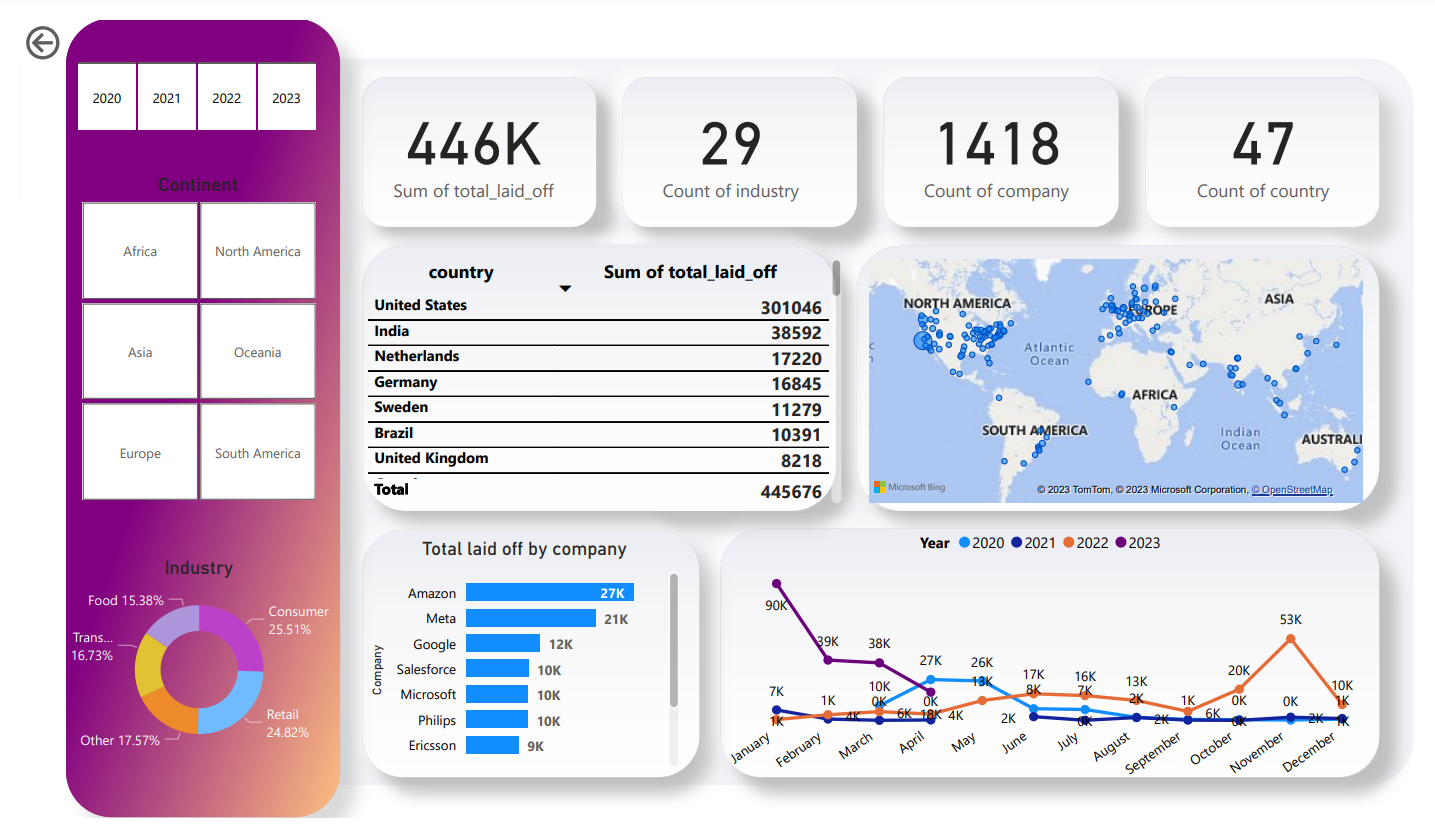

This screenshot's page, from the dashboard's own definition file:
{"tool":"powerbi","page":{"name":"main","canvas":[1280,720],"ordinal":0},"visuals":[{"type":"card","fields":{"Values":["Count(clean_layoffs.country)"]},"box":[1000.4,31.2,240.4,166.9],"z":0},{"type":"card","fields":{"Values":["Count(clean_layoffs.company)"]},"box":[759.9,31.4,240.5,166.2],"z":1000},{"type":"card","fields":{"Values":["Count(clean_layoffs.industry)"]},"box":[520.6,31.4,239.4,166.2],"z":2000},{"type":"card","fields":{"Values":["Sum(clean_layoffs.total_laid_off)"]},"box":[288.2,31.4,240.5,166.2],"z":3000},{"type":"slicer","title":"Continent","fields":{"Values":["clean_layoffs.continent"]},"box":[30.2,138.3,260.3,300.9],"z":4000},{"type":"lineChart","fields":{"Category":["clean_layoffs.date.Variation.Date Hierarchy.Month","clean_layoffs.date.Variation.Date Hierarchy.Year"],"Y":["Sum(clean_layoffs.total_laid_off)"],"Series":["clean_layoffs.date.Variation.Date Hierarchy.Year"]},"box":[628.6,449.7,586.8,253.3],"z":5000},{"type":"clusteredBarChart","title":"Total laid off by company","fields":{"Category":["clean_layoffs.company"],"Y":["Sum(clean_layoffs.total_laid_off)"]},"box":[311.4,465.9,287,220.8],"z":6000},{"type":"donutChart","title":"Industry","fields":{"Y":["Sum(clean_layoffs.total_laid_off)"],"Category":["clean_layoffs.industry"]},"box":[36,483.4,249.8,184.8],"z":7000},{"type":"map","fields":{"Size":["Sum(clean_layoffs.total_laid_off)"],"Category":["clean_layoffs.location Hierarchy.location"]},"box":[760.1,210.3,455.1,229.2],"z":8000},{"type":"pivotTable","title":"Total laid off by company","fields":{"Rows":["clean_layoffs.country"],"Values":["Sum(clean_layoffs.total_laid_off)"]},"box":[311.4,210.3,433.4,228.9],"z":9000},{"type":"slicer","title":"Continent","fields":{"Values":["clean_layoffs.year"]},"box":[25.6,31.4,264.9,73.2],"z":10000},{"type":"actionButton","box":[0,0,100,40],"z":11000}]}

Visuals, with their boxes on the page's 1280x720 design canvas (x1, y1, x2, y2). These are canvas units, not pixel positions in the 1435x836 screenshot, which may show the page scaled, cropped or inside an application window:
card - Count(clean_layoffs.country): [1000, 31, 1241, 198]
card - Count(clean_layoffs.company): [760, 31, 1000, 198]
card - Count(clean_layoffs.industry): [521, 31, 760, 198]
card - Sum(clean_layoffs.total_laid_off): [288, 31, 529, 198]
"Continent" slicer: [30, 138, 290, 439]
lineChart - clean_layoffs.date.Variation.Date Hierarchy.Month x clean_layoffs.date.Variation.Date Hierarchy.Year: [629, 450, 1215, 703]
"Total laid off by company" clusteredBarChart: [311, 466, 598, 687]
"Industry" donutChart: [36, 483, 286, 668]
map - Sum(clean_layoffs.total_laid_off) x clean_layoffs.location Hierarchy.location: [760, 210, 1215, 440]
"Total laid off by company" pivotTable: [311, 210, 745, 439]
"Continent" slicer: [26, 31, 290, 105]
actionButton: [0, 0, 100, 40]
